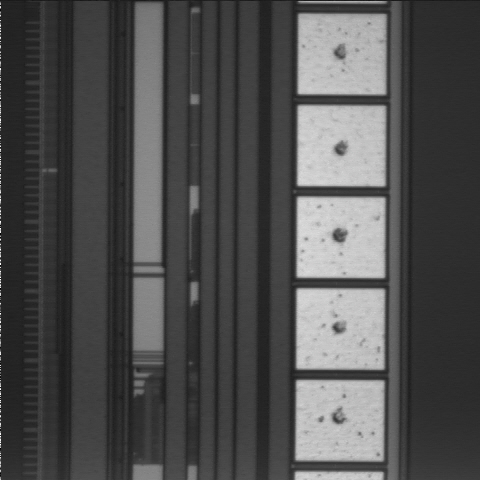pad: (297, 197, 385, 278), (298, 14, 385, 94), (298, 106, 385, 186), (297, 289, 384, 369), (296, 381, 383, 460)
